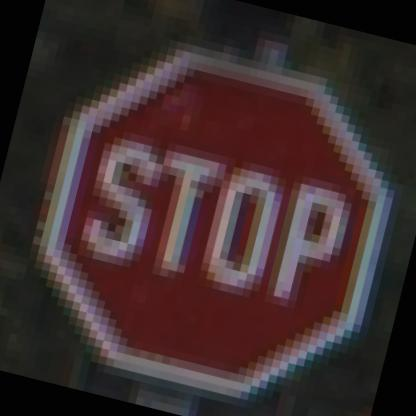stop: (11, 10, 416, 415)
